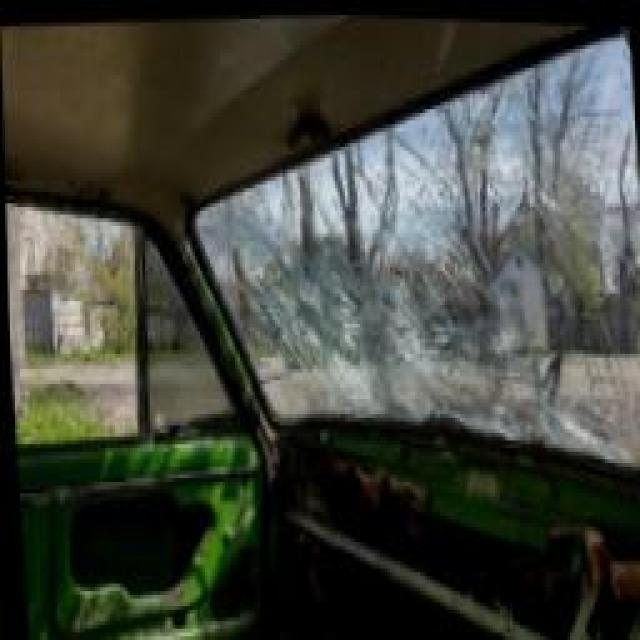Windshield: (198, 68, 640, 474)
